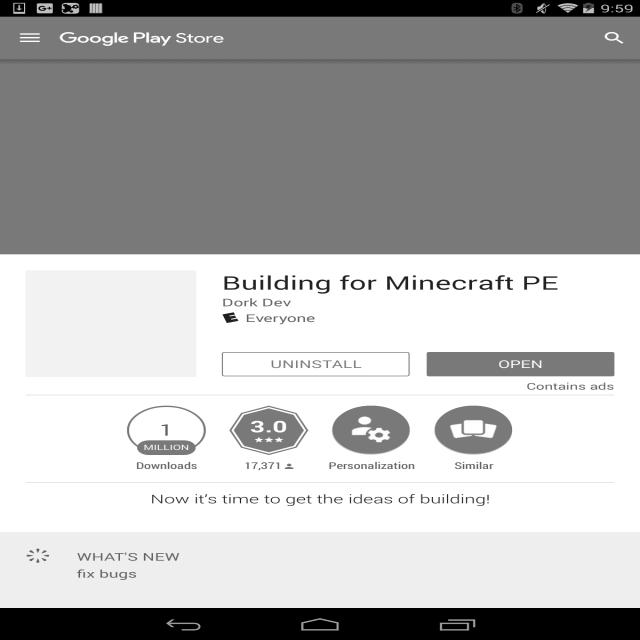Button: (222, 406, 316, 472), (324, 406, 418, 472), (426, 406, 520, 472), (222, 352, 409, 376), (427, 352, 614, 376)
ImageButton: (0, 17, 60, 59)
ImageView: (0, 59, 640, 254), (26, 270, 196, 377), (332, 406, 411, 455), (434, 406, 513, 455), (60, 30, 224, 46), (26, 548, 51, 564), (222, 312, 239, 323), (285, 464, 293, 469)
TextView: (0, 490, 640, 519), (77, 566, 614, 593), (222, 270, 614, 295), (77, 548, 614, 566), (589, 22, 640, 54), (324, 455, 418, 472), (426, 455, 520, 472), (120, 455, 213, 472), (526, 380, 614, 392), (245, 311, 316, 325), (222, 295, 291, 309), (250, 415, 288, 437), (244, 455, 282, 472), (142, 443, 192, 452), (159, 420, 173, 440)
